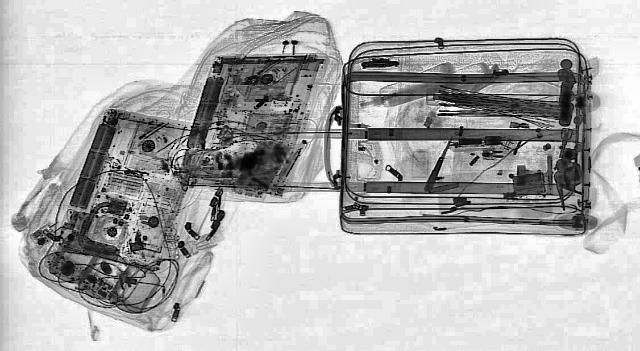Knife: (421, 135, 457, 190)
